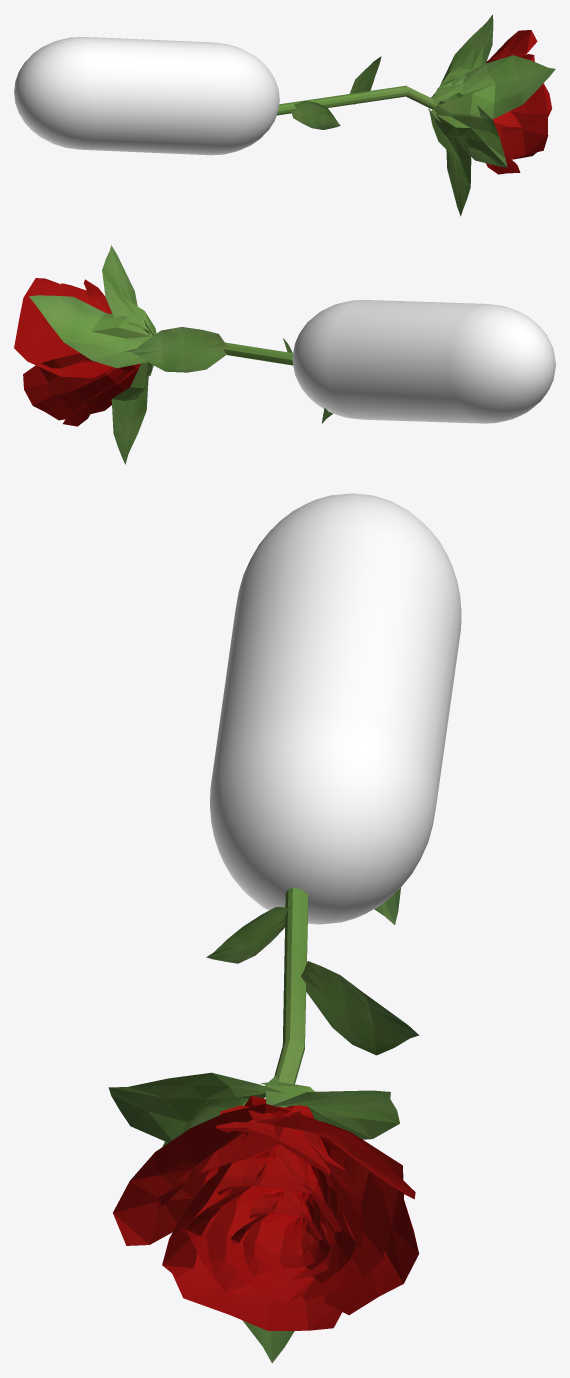
File: Red Rose Anchor.fbx
3 renders of one model, top to bottom at view 1: azimuth 30°, elevation 25°; view 2: azimuth 150°, elevation 25°; view 3: azimuth 270°, elevation 25°, orthographic. The views are drawn at different scales.
Visible parts, largest first — view 1: Capsule__3_, RED_ROSE; view 2: Capsule__3_, RED_ROSE; view 3: Capsule__3_, RED_ROSE.
Boxes of the visible parts, x1,y1,x2,y2 form: Capsule__3_: (14,37,279,155); RED_ROSE: (276,14,555,216); Capsule__3_: (292,300,555,423); RED_ROSE: (14,245,332,464); Capsule__3_: (210,493,461,924); RED_ROSE: (108,887,419,1363).
Size of the model in its own units: 31.72 by 15.15 by 9.73.
